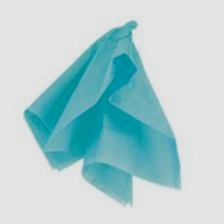tissue: (18, 18, 185, 210)
